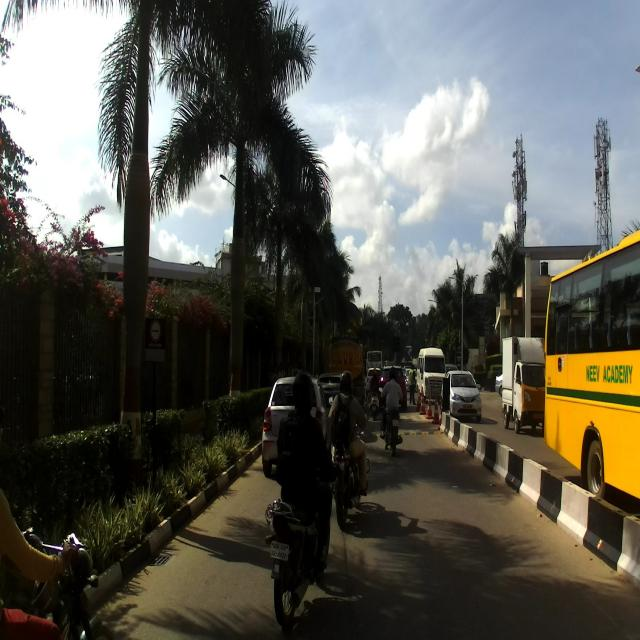bus: (543, 227, 639, 502)
car: (261, 372, 332, 480)
motorcycle: (0, 525, 116, 639), (266, 450, 338, 633), (324, 397, 370, 529), (377, 385, 402, 458)
